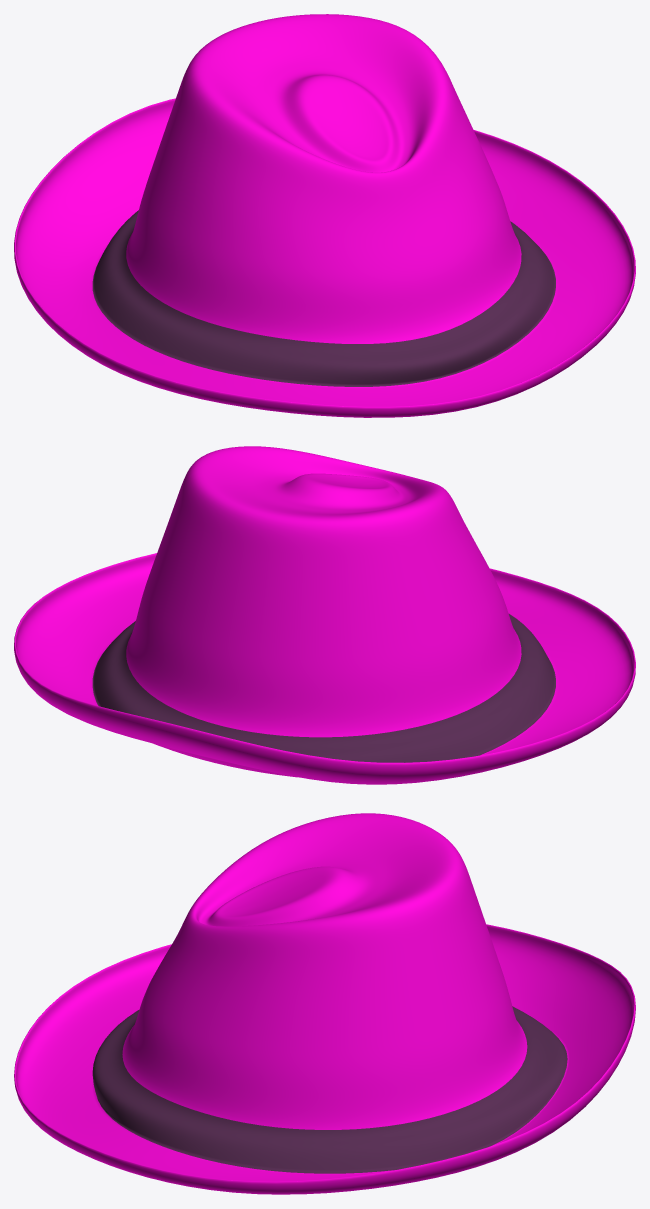
Rendered from Fedora.fbx.
3 renders of one model, top to bottom at view 1: azimuth 30°, elevation 25°; view 2: azimuth 150°, elevation 25°; view 3: azimuth 270°, elevation 25°, orthographic.
Parts seen in each view (by area): view 1: Hat.001; view 2: Hat.001; view 3: Hat.001.
Boxes of the visible parts, box(x1,y1,x2,y2) form: Hat.001: box(14, 14, 635, 417); Hat.001: box(14, 446, 635, 784); Hat.001: box(14, 813, 635, 1194).
Bounding box in the file's own units: 282 × 116 × 282.
